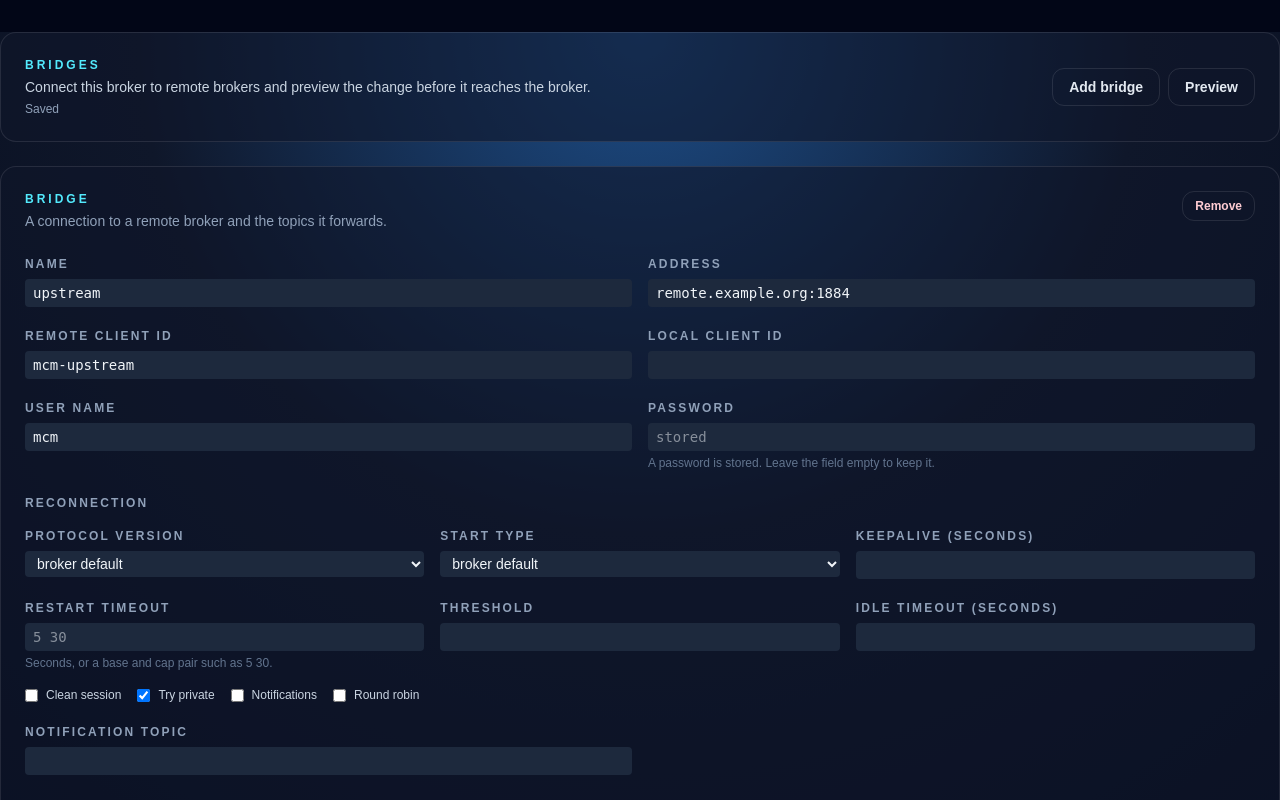
Test: BridgesPanel › previews the edited bridges and shows the diff
Clear the field named "Address upstream". click: coordinates (952, 293)
box: 648,279 -> 1255,307
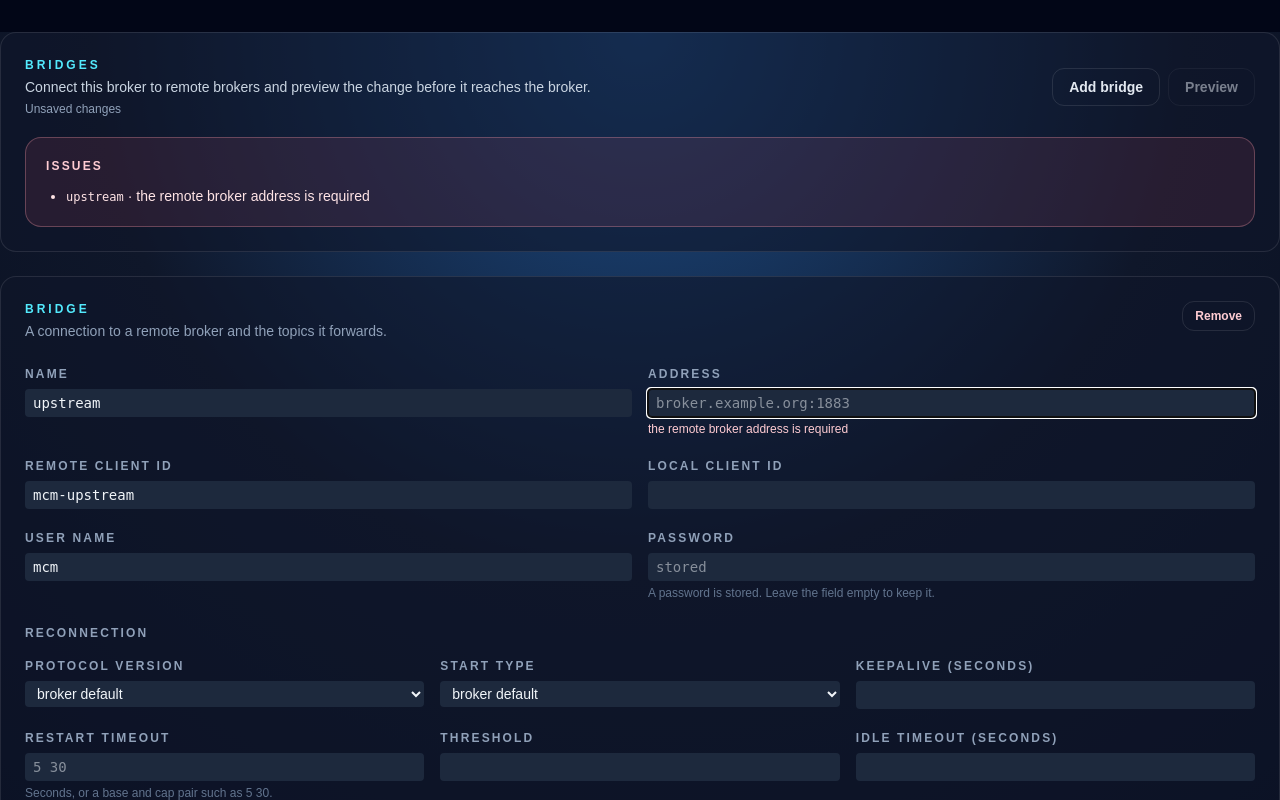
Type "other.example.org:1884" into the field named "Address upstream". click: coordinates (952, 403)
box: 648,389 -> 1255,417
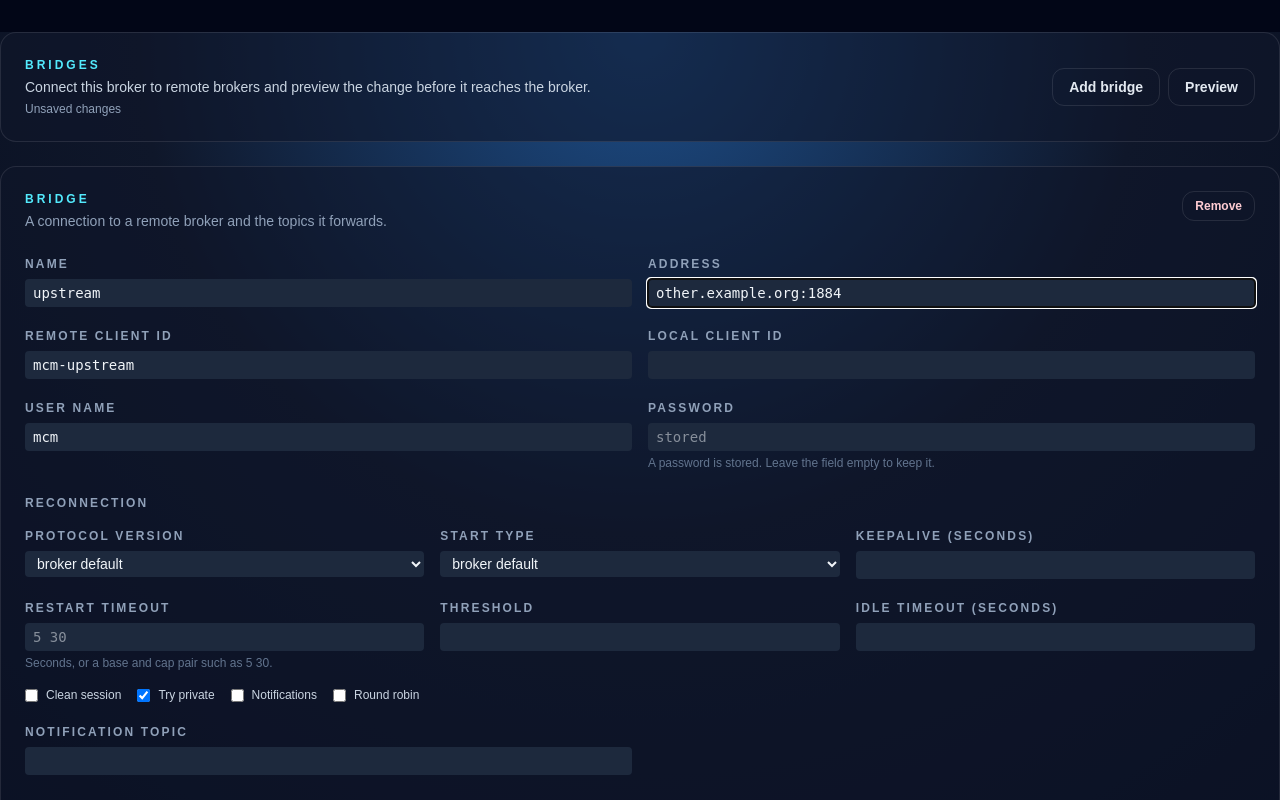
Click the button "Preview". click: coordinates (1212, 87)
box: 1168,68 -> 1255,106
(page scrolled)
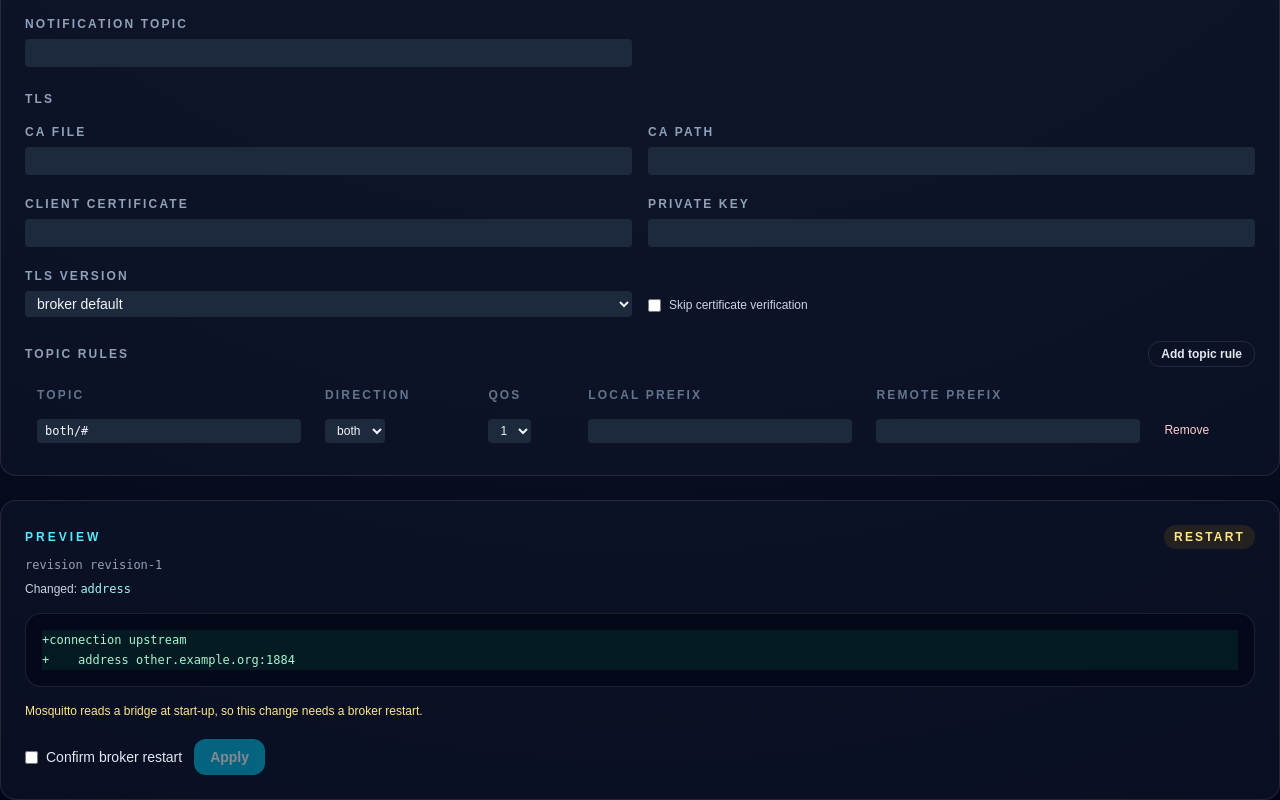
Check: the text "revision revision-1" is shown, box 25,558 -> 162,572
Check: the text "Mosquitto reads a bridge at start-up" is shown, box 25,704 -> 422,718
